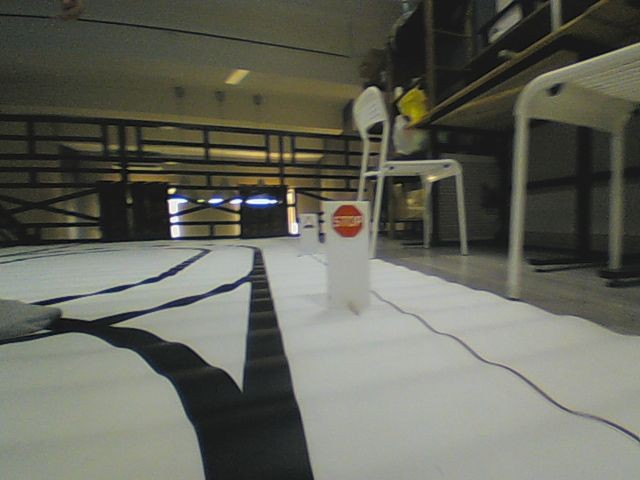Stop: (330, 204, 364, 239)
